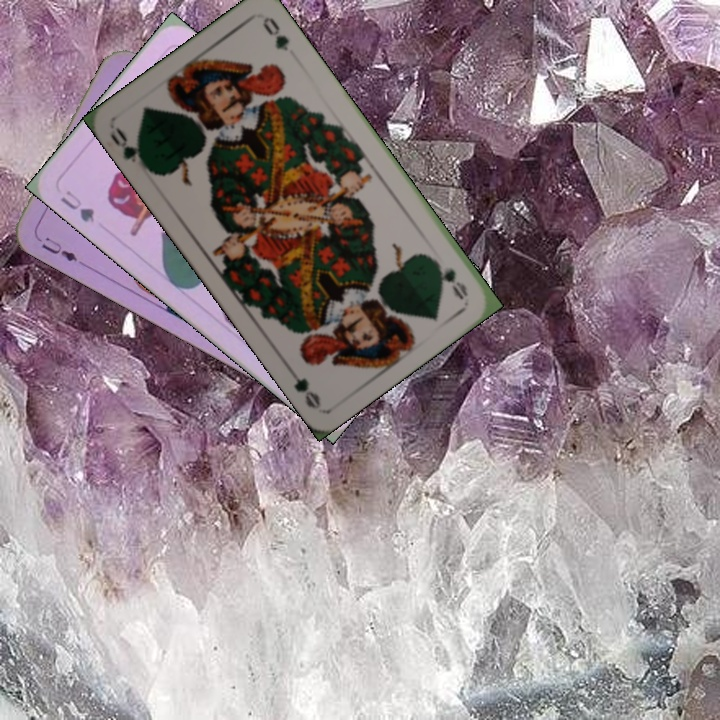EU: (32, 231, 80, 264)
GO: (106, 123, 152, 173), (426, 253, 471, 303)
GU: (56, 186, 97, 225)
